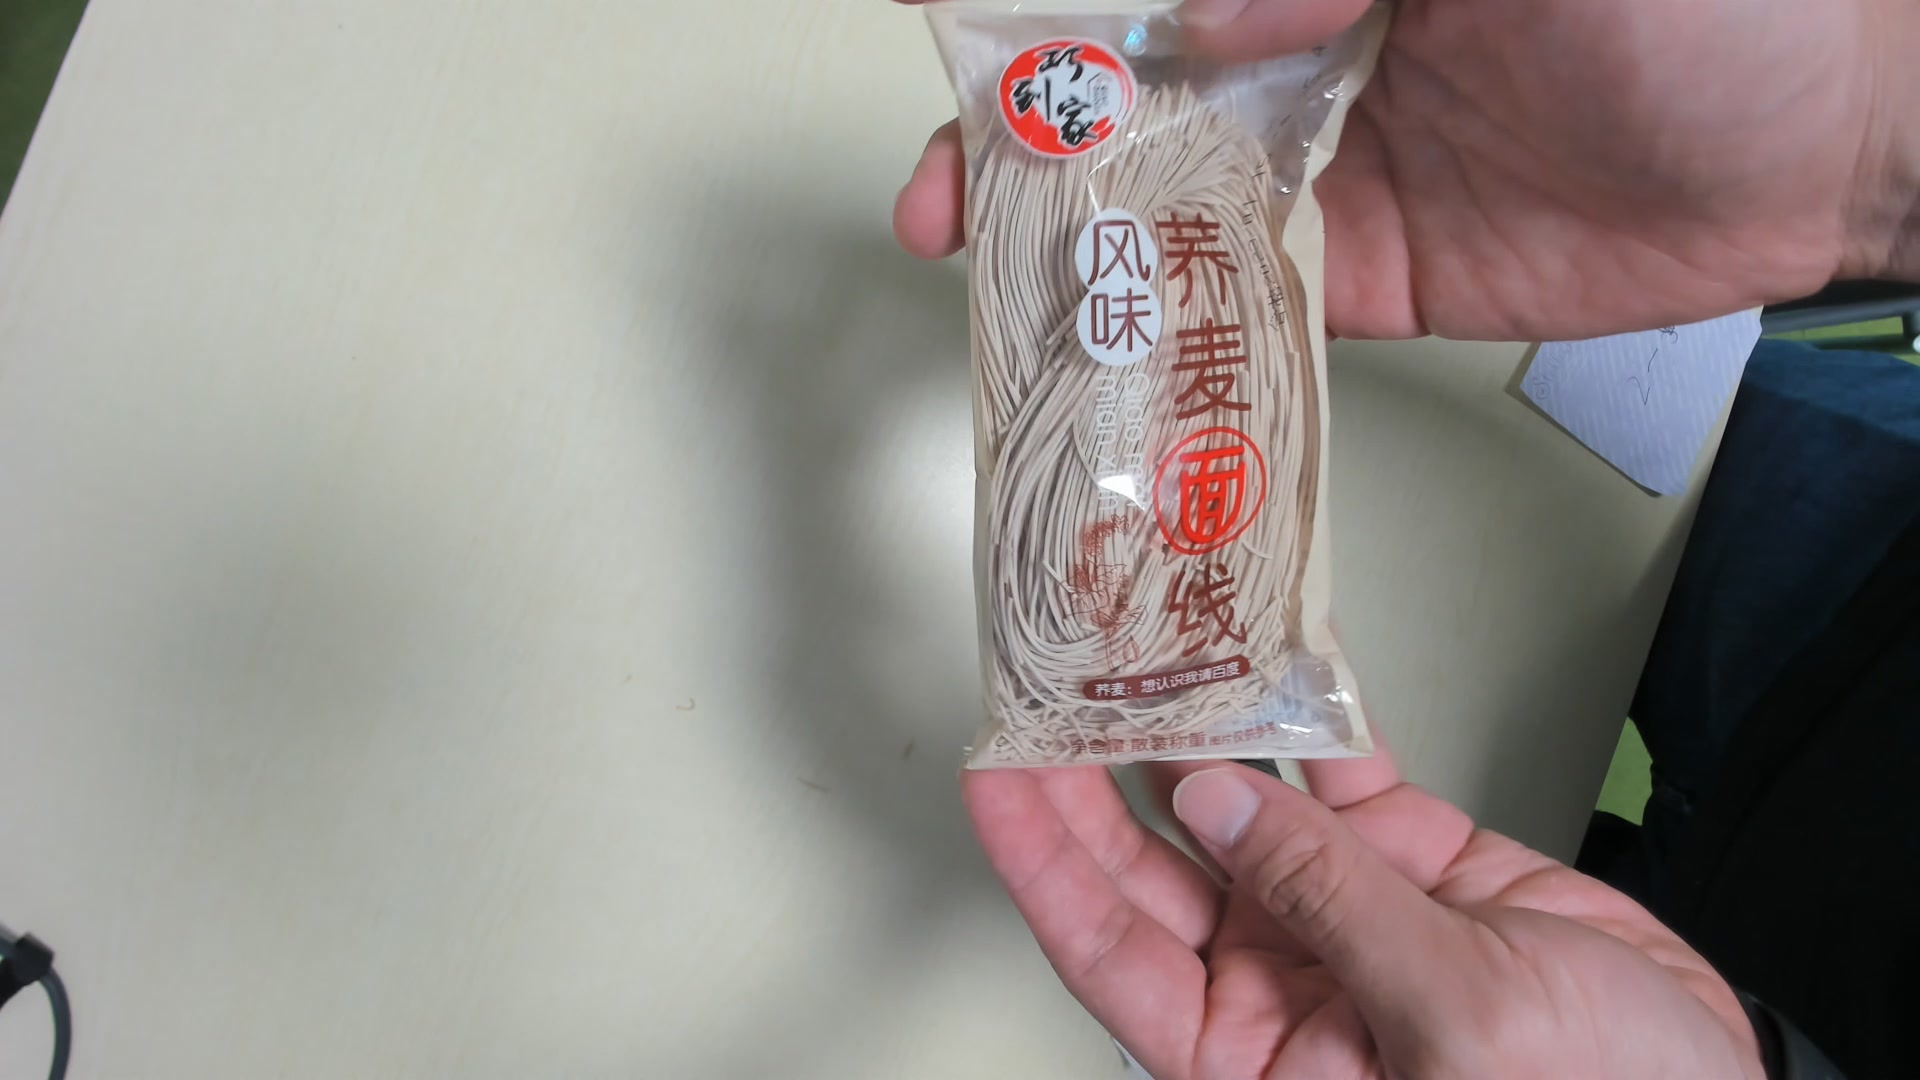BeeHoonVermicelli_0-99g_NonHalal_NonHealthy: (940, 15, 1375, 779)
